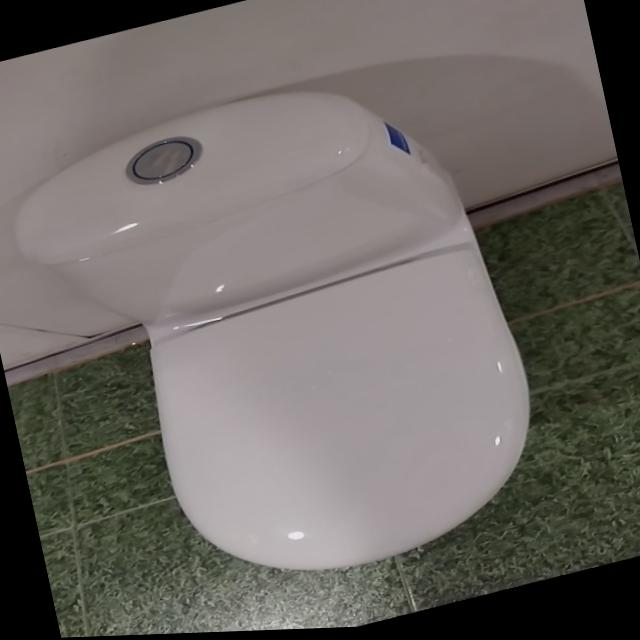toilet: (0, 45, 558, 634)
